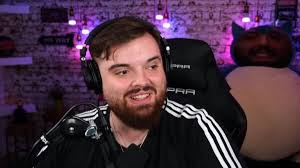person: (29, 15, 248, 166), (224, 17, 299, 166)
